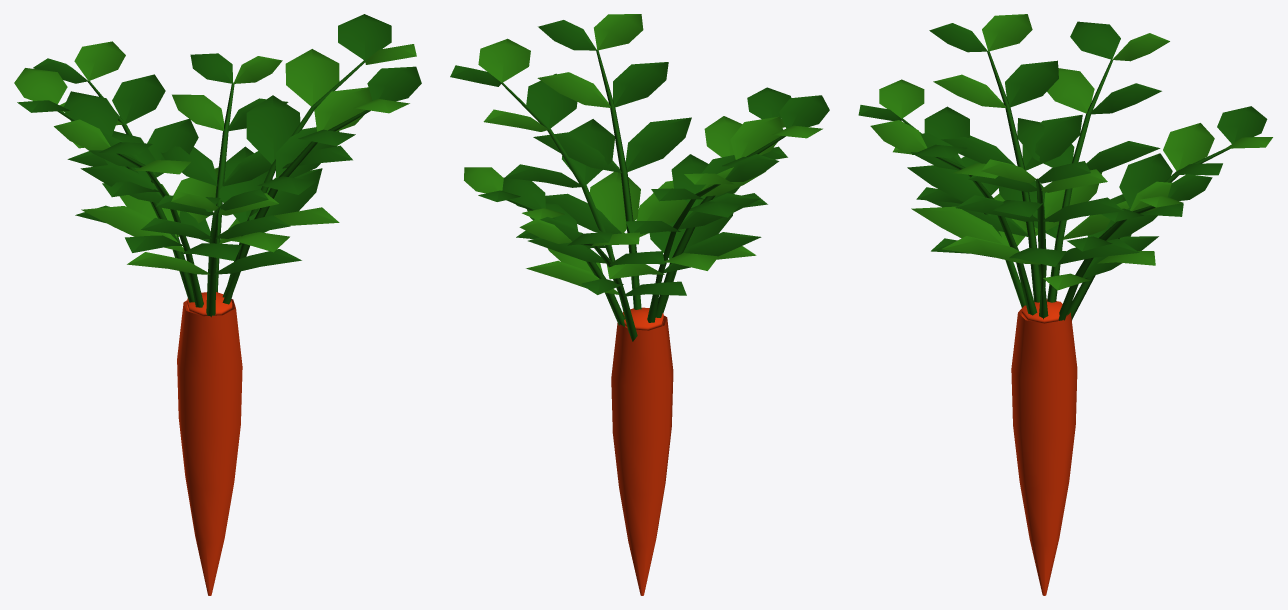
Rendered from Carrot_3.obj.
3 views of the same model, side by side, from view 1: azimuth 30°, elevation 25°; view 2: azimuth 150°, elevation 25°; view 3: azimuth 270°, elevation 25° (orthographic). The views are drawn at different scales.
Visible parts, largest first — view 1: Carrot_3; view 2: Carrot_3; view 3: Carrot_3.
Part boxes in pixels (bbox=[...]): Carrot_3: bbox=[14, 14, 421, 595]; Carrot_3: bbox=[450, 14, 829, 595]; Carrot_3: bbox=[858, 14, 1272, 595].
Bounding box in the file's own units: 0.4353 × 0.6204 × 0.4522.
